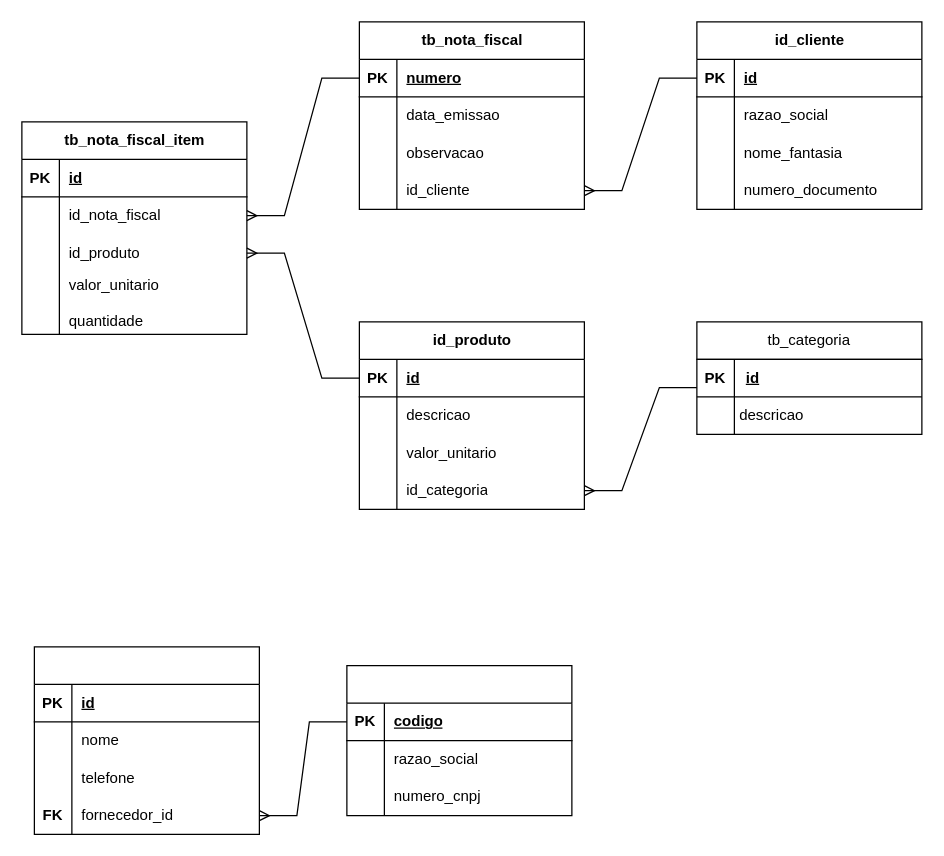
This 944x856 diagram has some shape labels left out. The box of each missing label's shape, as (x1, y1, x2, y2) in pixels:
tb_contato: (33, 646, 259, 834)
tb_fornecedor: (346, 664, 572, 816)
